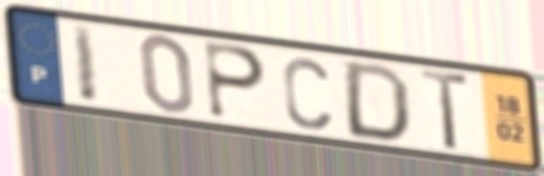0: (136, 32, 196, 117)
C: (279, 53, 334, 132)
D: (342, 58, 414, 145)
I: (68, 20, 101, 106)
P: (201, 39, 269, 123)
T: (417, 66, 473, 154)
